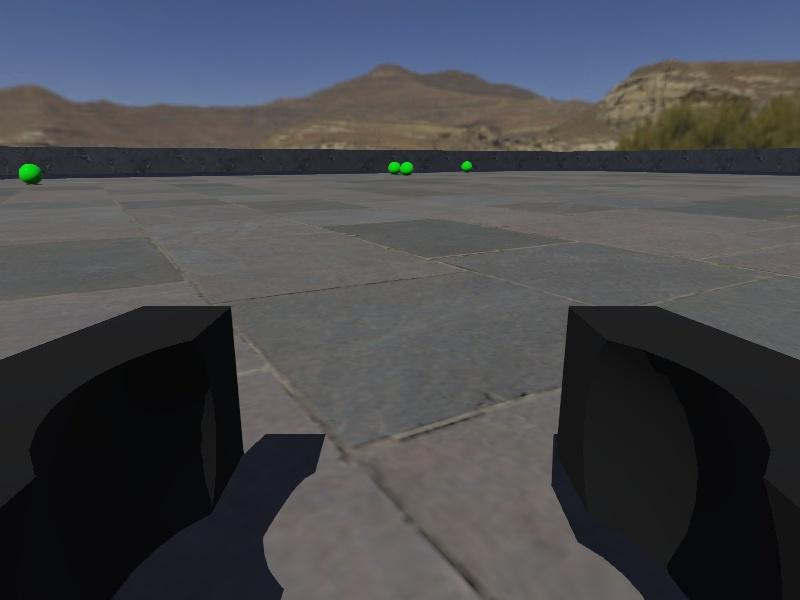green ball: (18, 162, 44, 184), (400, 160, 414, 175), (461, 159, 473, 172)
